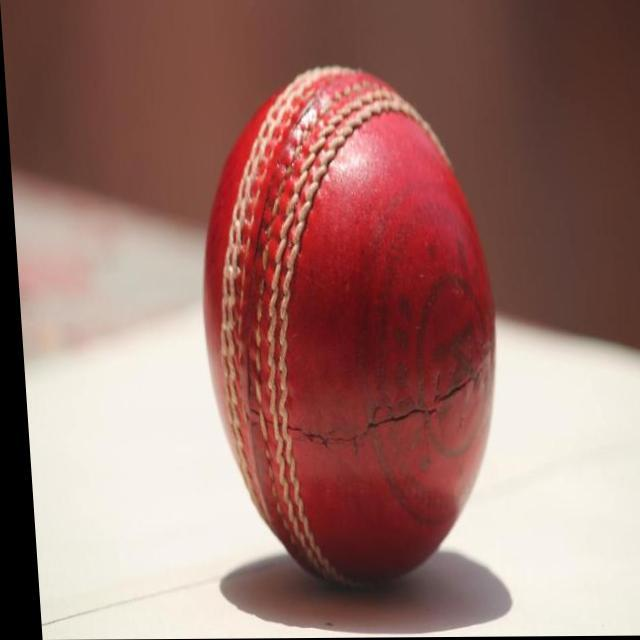cricket ball: (198, 65, 492, 591)
